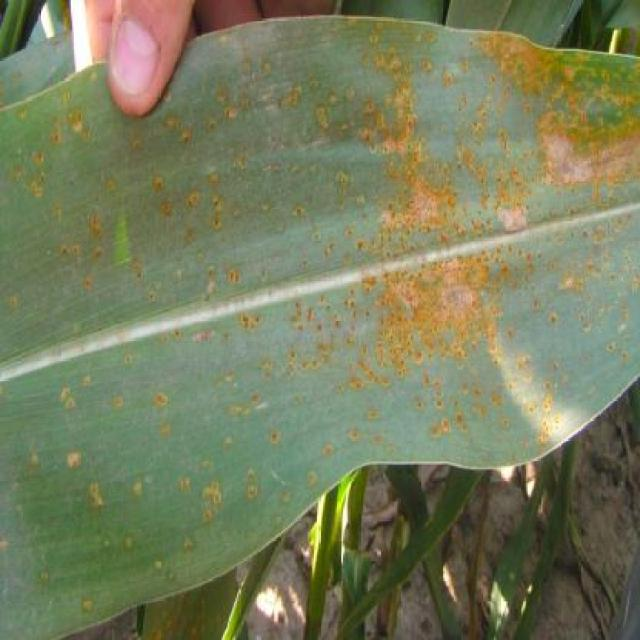Corn_Rust: (200, 3, 640, 495)
